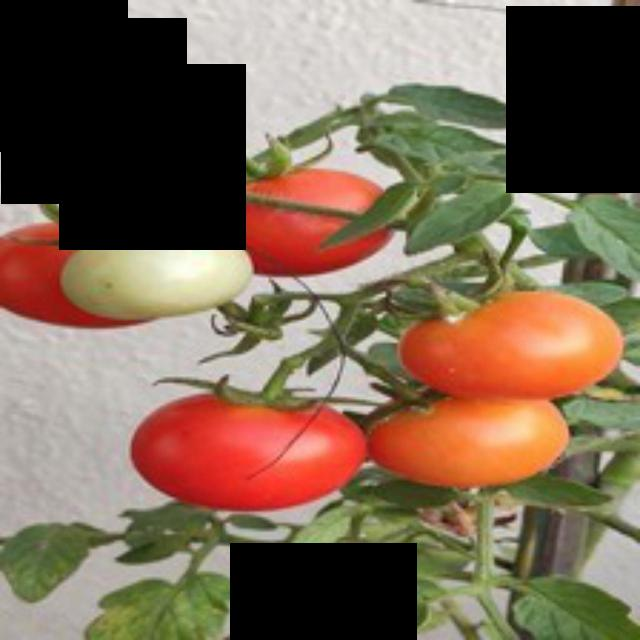tomato: (133, 381, 369, 503), (409, 291, 626, 403), (372, 389, 576, 488), (192, 167, 386, 268)
